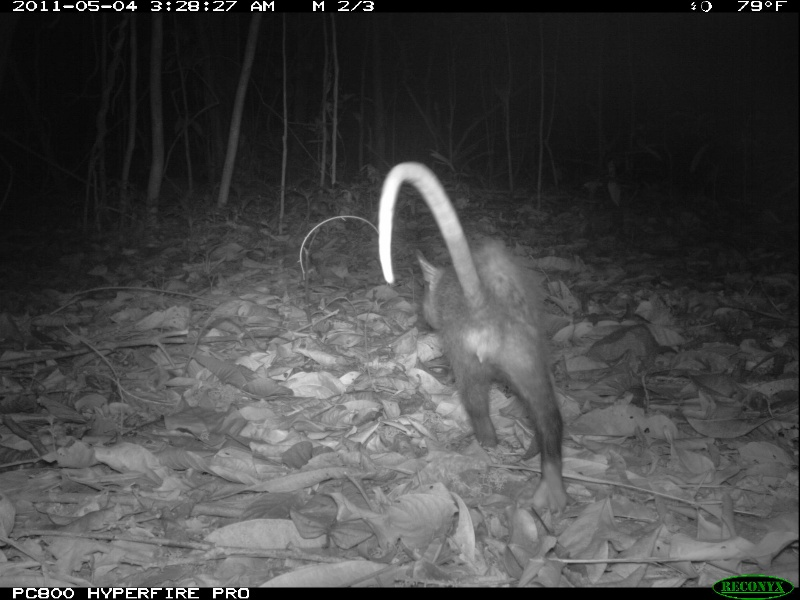opossum: (371, 161, 572, 520)
